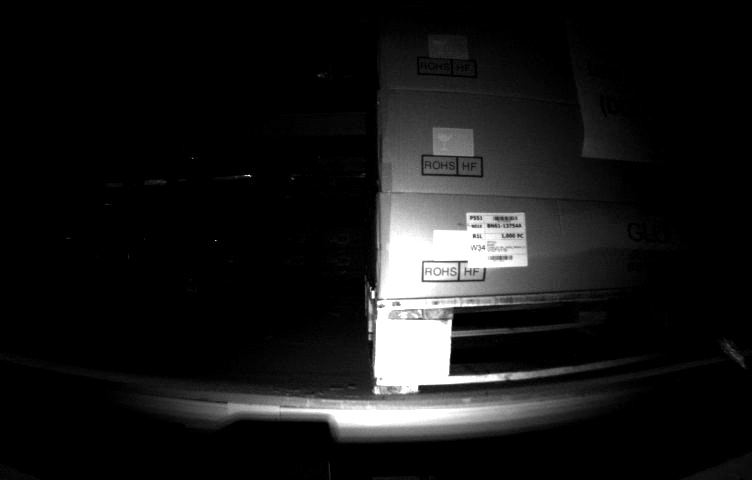True Barcode: (463, 205, 531, 274)
